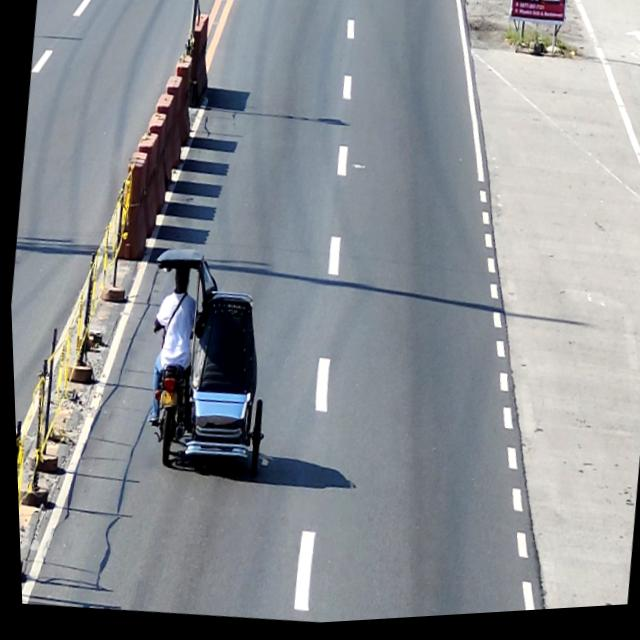License-Plate: (154, 390, 176, 411)
Tricycle: (128, 244, 284, 486)
